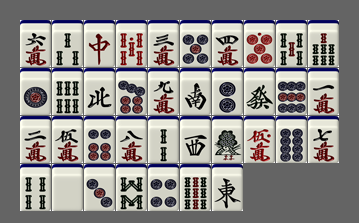0m: (244, 116, 275, 163)
0p: (244, 20, 275, 67)
0s: (116, 20, 147, 67)
1m: (308, 68, 339, 115)
1p: (20, 68, 51, 115)
1s: (212, 116, 243, 163)
1z: (212, 164, 243, 211)
2m: (20, 116, 51, 163)
2p: (212, 68, 243, 115)
2s: (148, 116, 179, 163)
2z: (180, 68, 211, 115)
3m: (148, 20, 179, 67)
3p: (84, 164, 115, 211)
3s: (52, 20, 83, 67)
3z: (180, 116, 211, 163)
4m: (212, 20, 243, 67)
4p: (148, 164, 179, 211)
4s: (20, 164, 51, 211)
4z: (84, 68, 115, 115)
5m: (52, 116, 83, 163)
5p: (180, 20, 211, 67)
5s: (276, 20, 307, 67)
5z: (52, 164, 83, 211)
6m: (20, 20, 51, 67)
6p: (84, 116, 115, 163)
6s: (52, 68, 83, 115)
6z: (244, 68, 275, 115)
7m: (308, 116, 339, 163)
7p: (116, 68, 147, 115)
7s: (308, 20, 339, 67)
7z: (84, 20, 115, 67)
8m: (116, 116, 147, 163)
8p: (276, 116, 307, 163)
8s: (116, 164, 147, 211)
9m: (148, 68, 179, 115)
9p: (276, 68, 307, 115)
9s: (180, 164, 211, 211)
